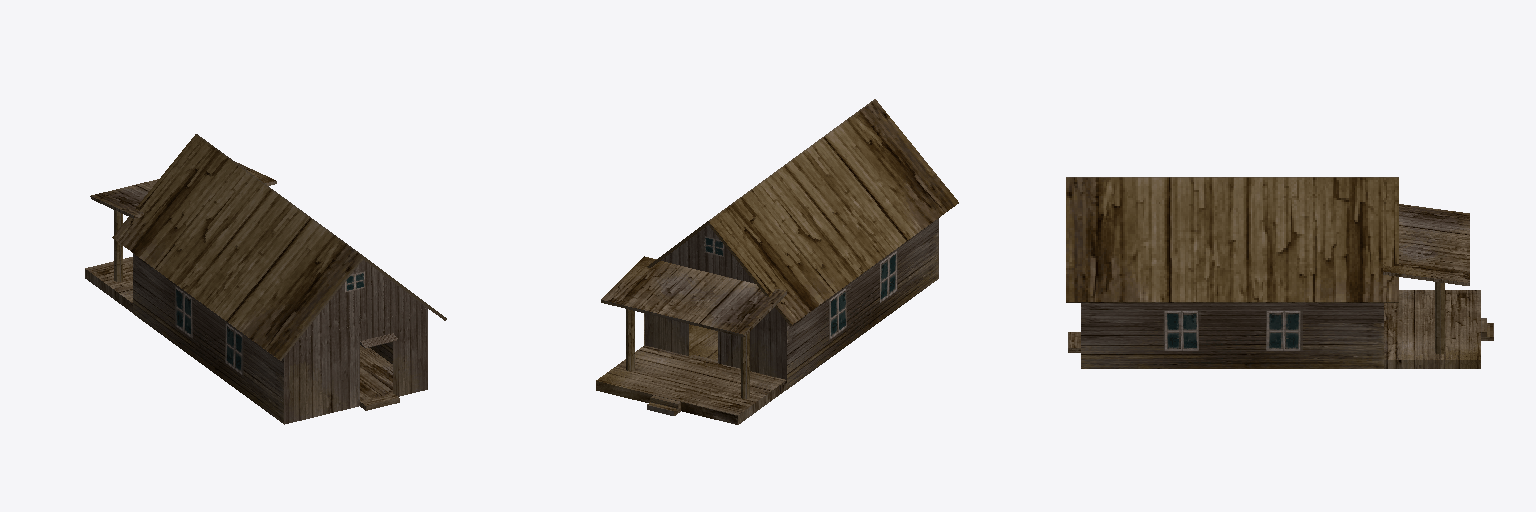
3 views of the same model, side by side, from view 1: azimuth 30°, elevation 25°; view 2: azimuth 150°, elevation 25°; view 3: azimuth 270°, elevation 25° (orthographic).
Parts seen in each view (by area): view 1: cube, pyramid; view 2: cube, pyramid, tube; view 3: cube, tube.
Boxes of the visible parts, x1,y1,x2,y2 form: cube: [85, 134, 446, 424]; pyramid: [299, 260, 426, 338]; cube: [596, 99, 958, 424]; pyramid: [661, 225, 755, 283]; tube: [626, 309, 749, 398]; cube: [1066, 177, 1493, 368]; tube: [1435, 282, 1444, 354].
Size of the model in its own units: 1.67 by 1.49 by 3.68.
Materials: 1 (1 with a texture image).